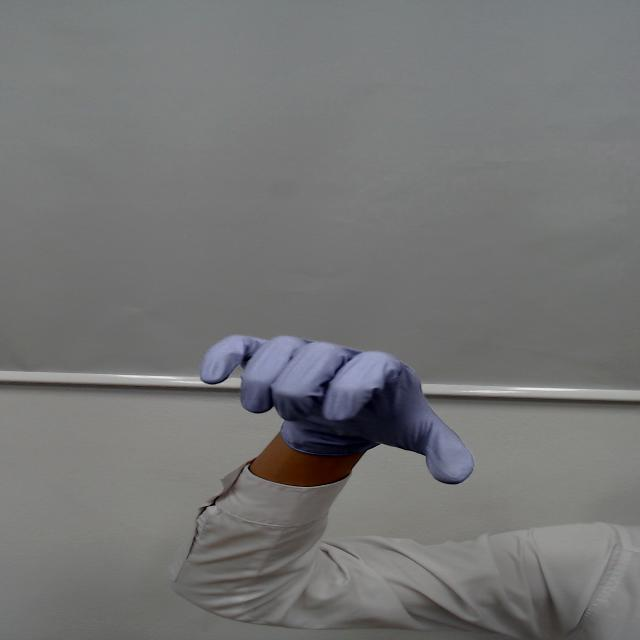glove: (186, 307, 479, 488)
